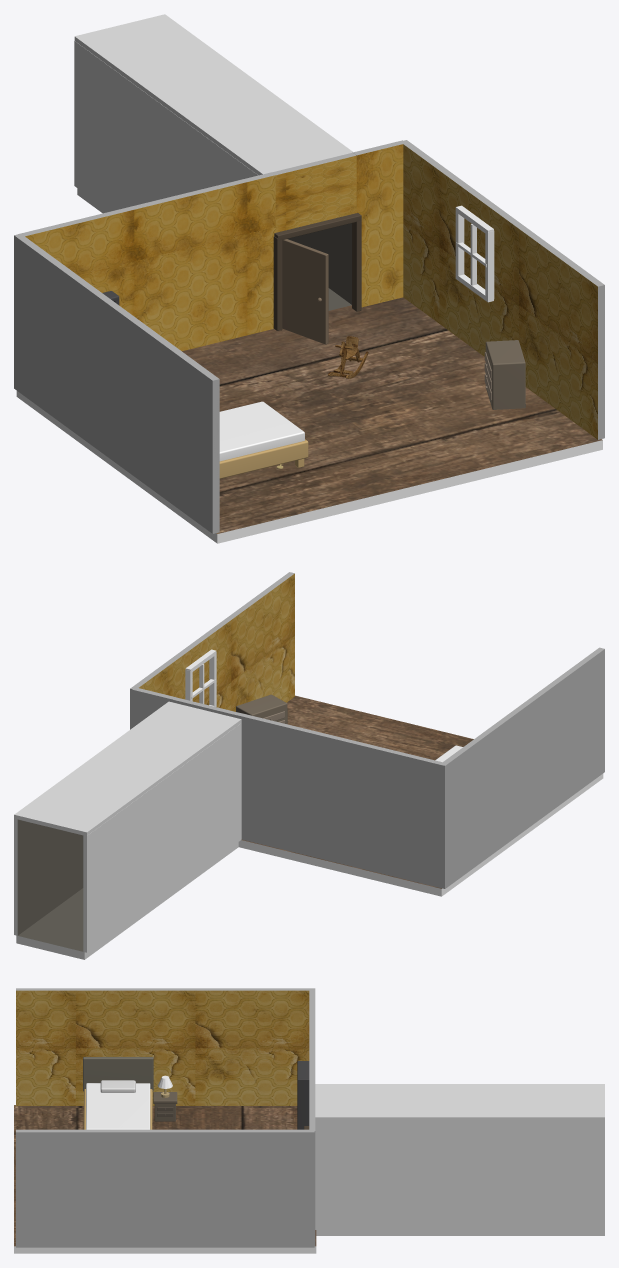
Rendered from Habitacion.glb.
3 views of the same model, one above another, from view 1: azimuth 30°, elevation 25°; view 2: azimuth 150°, elevation 25°; view 3: azimuth 270°, elevation 25° (orthographic). The views are drawn at different scales.
Parts seen in each view (by area): view 1: Piso, Paredizquierda, Paredderechatrasera, Paredfondoizquierda, Techopasillo, Paredizquierdapasillo, Paredfondoderecha, Paredfondopuerta, Puertaabierta, Colchcobija, cajonderecho, Paredderechpasillo (+5 smaller); view 2: Paredfondoizquierda, Paredizquierda, Paredizquierdapasillo, Techopasillo, Paredderechatrasera, Piso, Paredderechpasillo, Pisopasillo, Paredfondoderecha, cajonderecho; view 3: Paredderechatrasera, Paredderechpasillo, Paredizquierda, Techopasillo, Piso, Colchcobija, Cabeceracama, Pisopasillo, Librerolateralderecho, Paredfondoizquierda, Almohada.
Part boxes in pixels (x1,y1,x2,y2): Piso: (16, 297, 602, 543); Paredizquierda: (14, 233, 219, 533); Paredderechatrasera: (400, 140, 604, 439); Paredfondoizquierda: (18, 172, 275, 351); Techopasillo: (74, 14, 353, 175); Paredizquierdapasillo: (74, 41, 258, 211); Paredfondoderecha: (352, 140, 406, 307); Paredfondopuerta: (272, 152, 356, 232); Puertaabierta: (282, 239, 328, 344); Colchcobija: (219, 401, 304, 461); cajonderecho: (485, 340, 525, 409); Paredderechpasillo: (288, 223, 351, 304); Paredfondoizquierda: (237, 713, 442, 888); Paredizquierda: (440, 647, 604, 888); Paredizquierdapasillo: (83, 723, 241, 952); Techopasillo: (14, 701, 241, 836); Paredderechatrasera: (130, 572, 294, 729); Piso: (238, 695, 603, 896); Paredderechpasillo: (14, 818, 83, 935); Pisopasillo: (16, 842, 238, 959); Paredfondoderecha: (132, 688, 175, 727); cajonderecho: (236, 694, 287, 724); Paredderechatrasera: (16, 1129, 314, 1247); Paredderechpasillo: (315, 1120, 604, 1229); Paredizquierda: (16, 988, 315, 1105); Techopasillo: (315, 1084, 604, 1120); Piso: (14, 1105, 316, 1253); Colchcobija: (86, 1083, 150, 1129); Cabeceracama: (83, 1057, 153, 1091); Pisopasillo: (316, 1230, 604, 1235); Librerolateralderecho: (297, 1078, 309, 1129); Paredfondoizquierda: (309, 989, 315, 1082); Almohada: (100, 1080, 135, 1092).
Size of the model in its own units: 0.4735 by 0.1879 by 0.8206.
Materials: 35 (7 with a texture image).
